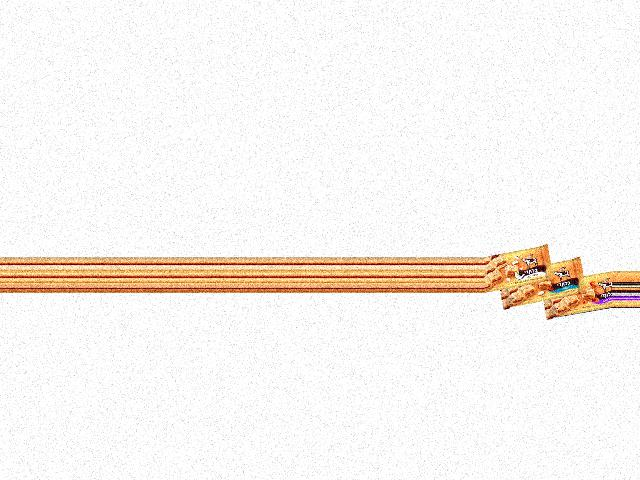chocolate: (537, 270, 613, 315)
